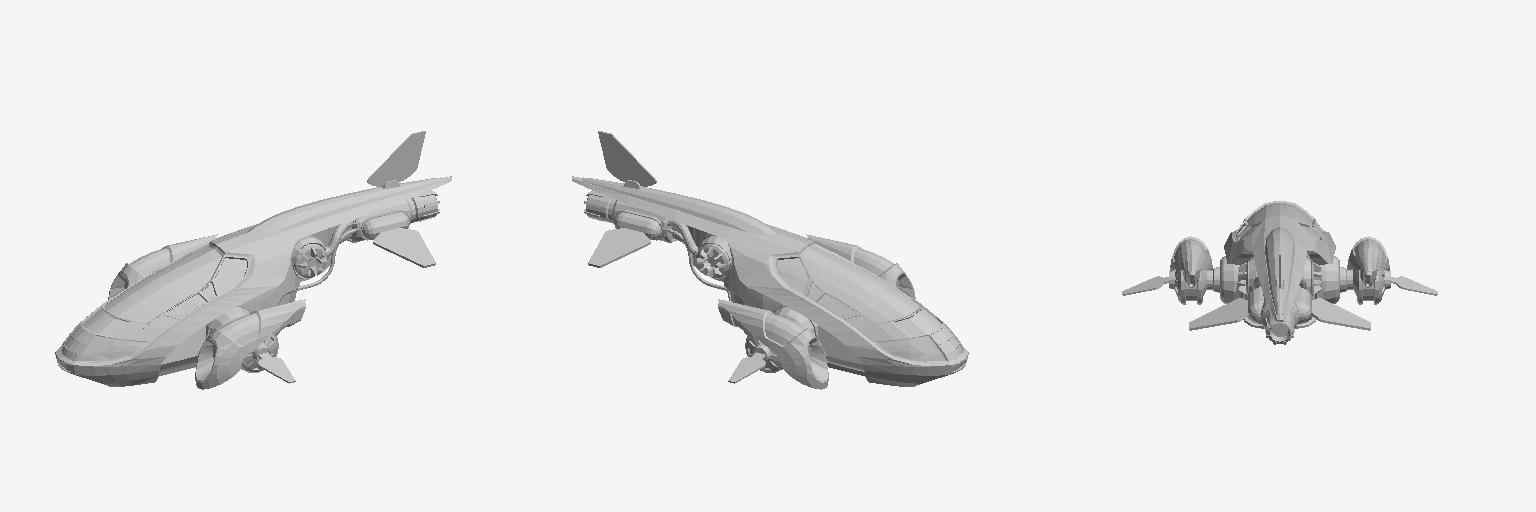
Rendered from ship.obj.
The picture shows the model from 3 angles: view 1: azimuth 30°, elevation 25°; view 2: azimuth 150°, elevation 25°; view 3: azimuth 270°, elevation 25°; orthographic projection.
Visible parts, largest first — view 1: Ship_Type_3_Sphere.005; view 2: Ship_Type_3_Sphere.005; view 3: Ship_Type_3_Sphere.005.
Part boxes in pixels (x1,y1,x2,y2): Ship_Type_3_Sphere.005: (55, 131, 451, 389); Ship_Type_3_Sphere.005: (572, 131, 968, 389); Ship_Type_3_Sphere.005: (1122, 201, 1437, 344).
Bounding box in the file's own units: 4.31 × 1.76 × 3.